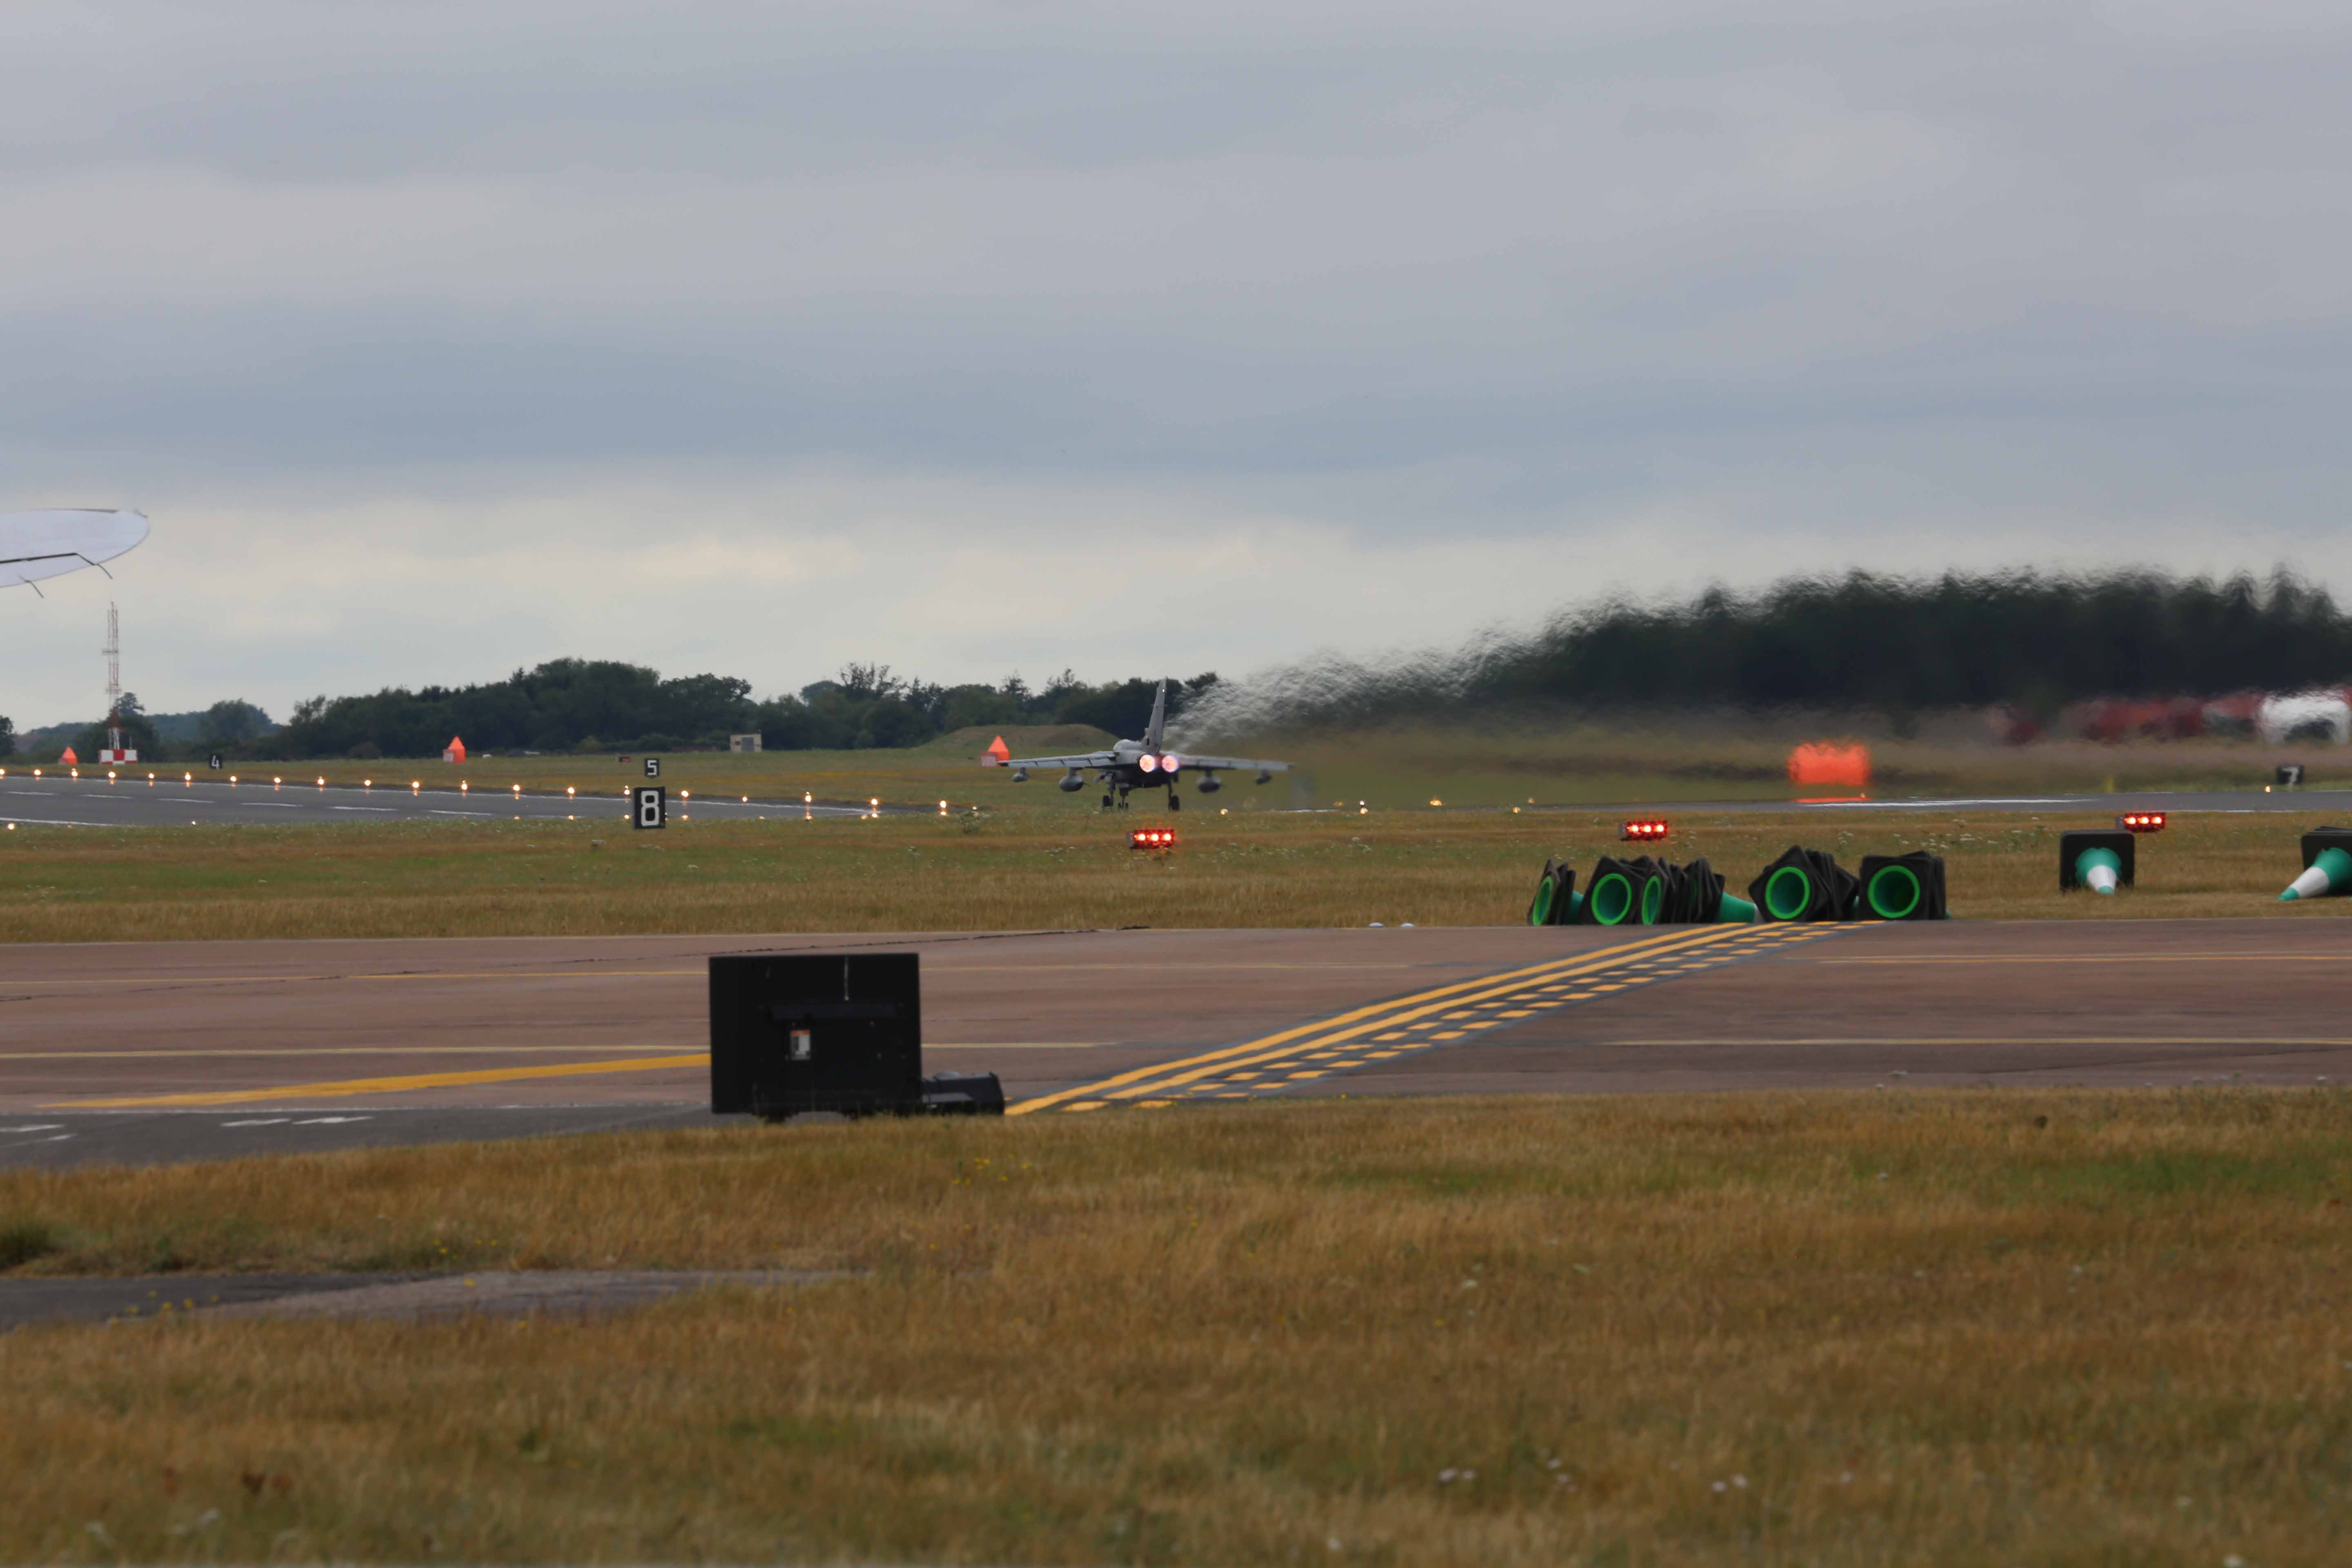Tornado: (996, 674, 1298, 814)
